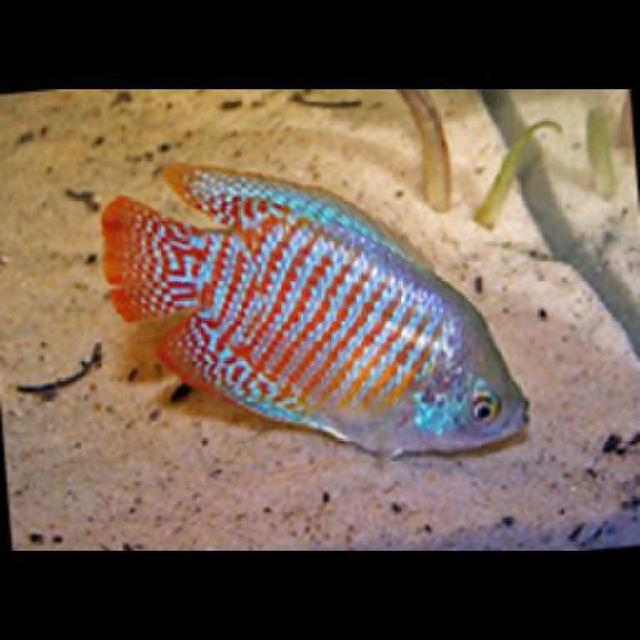Gourami: (98, 158, 536, 457)
